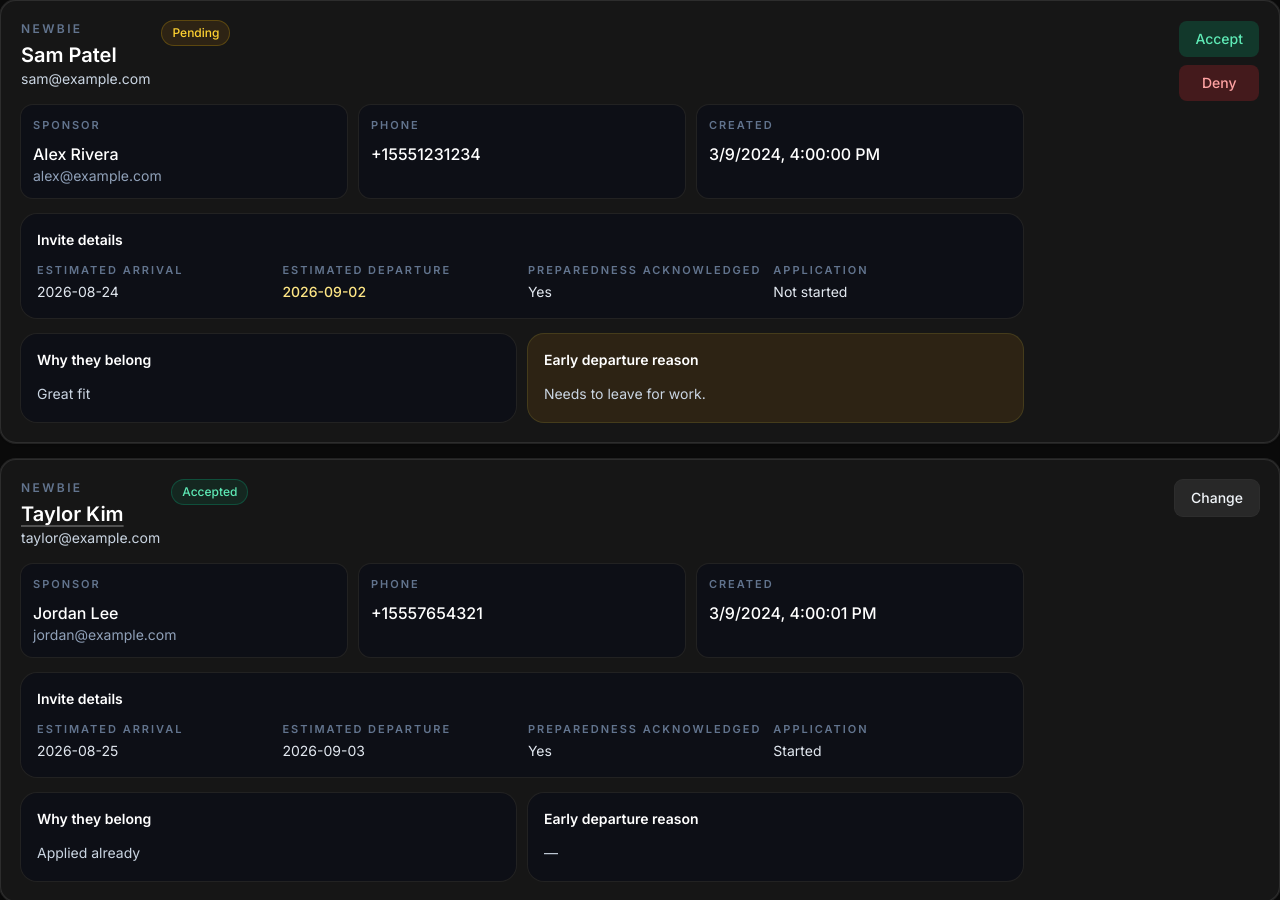
Test case: NewbieInvitesTable › reveals change actions for already decided invites
The image size is (1280, 900).
Click the button "Change".
click(1217, 498)  # box [1175,480,1259,516]
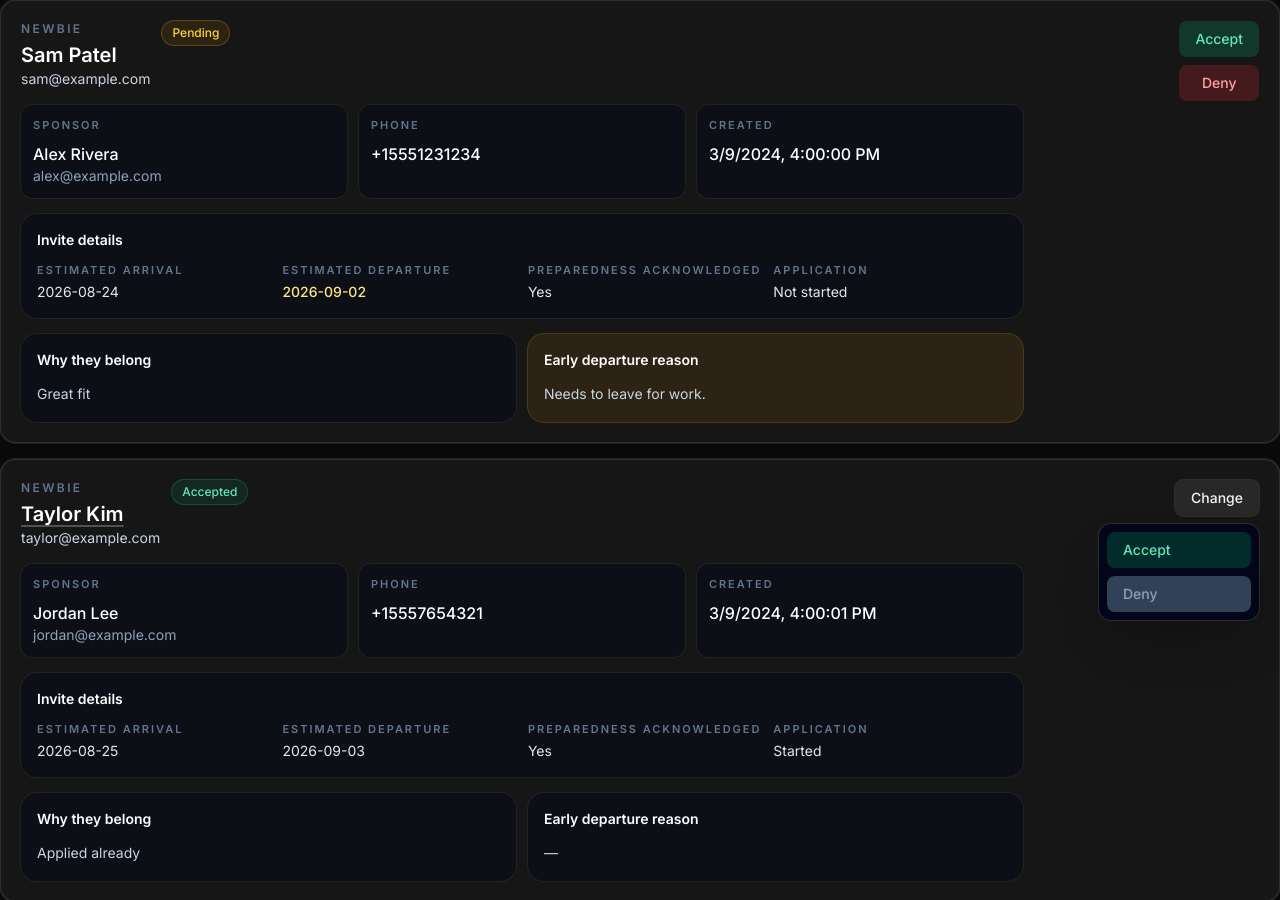
expect the number of buttons "Accept" is 2: met, box [1179,21,1259,57]; [1107,532,1251,568]
expect the number of buttons "Deny" is 2: met, box [1179,65,1259,101]; [1107,576,1251,612]
expect the button "Deny" in the row of "3/9/2024, 4:00:01 PM" is disabled: met, box [1107,576,1251,612]
